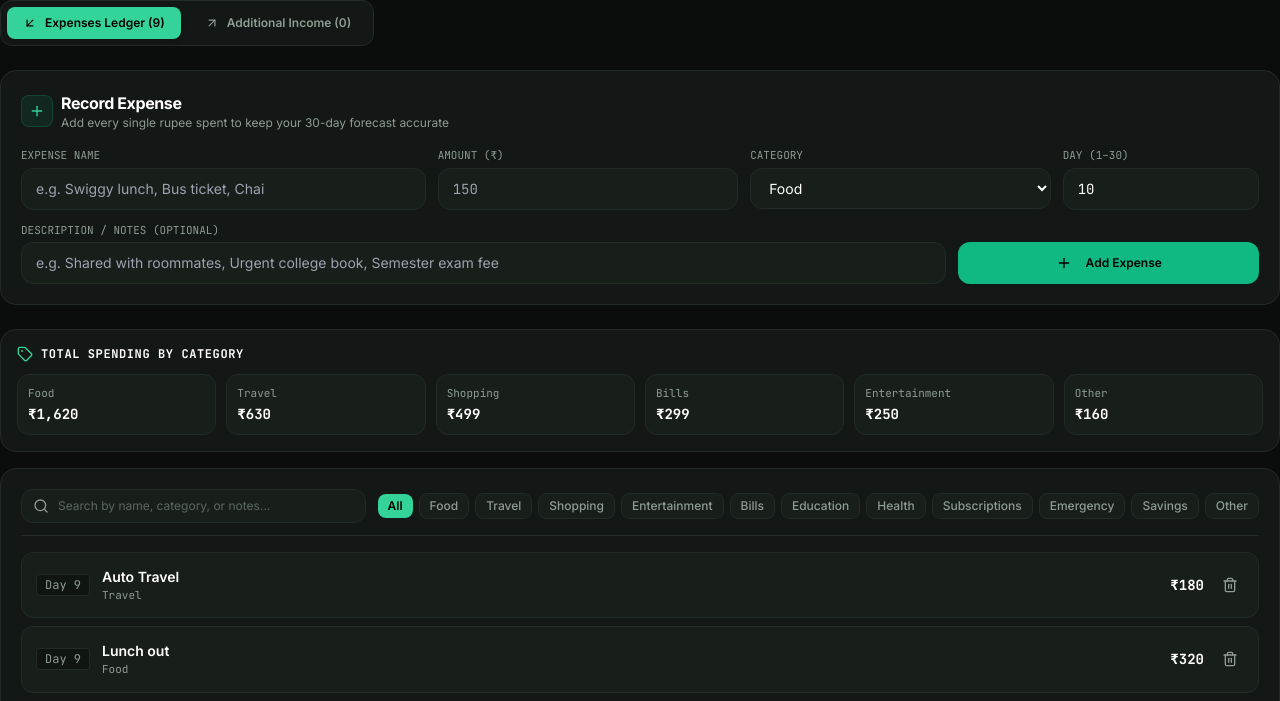
Test: ExpenseTracker Component › rejects submission with negative amount
Type "Coffee" into the field labelled "Expense Name".
click(223, 188); type("Coffee")  # box [21,168,426,210]
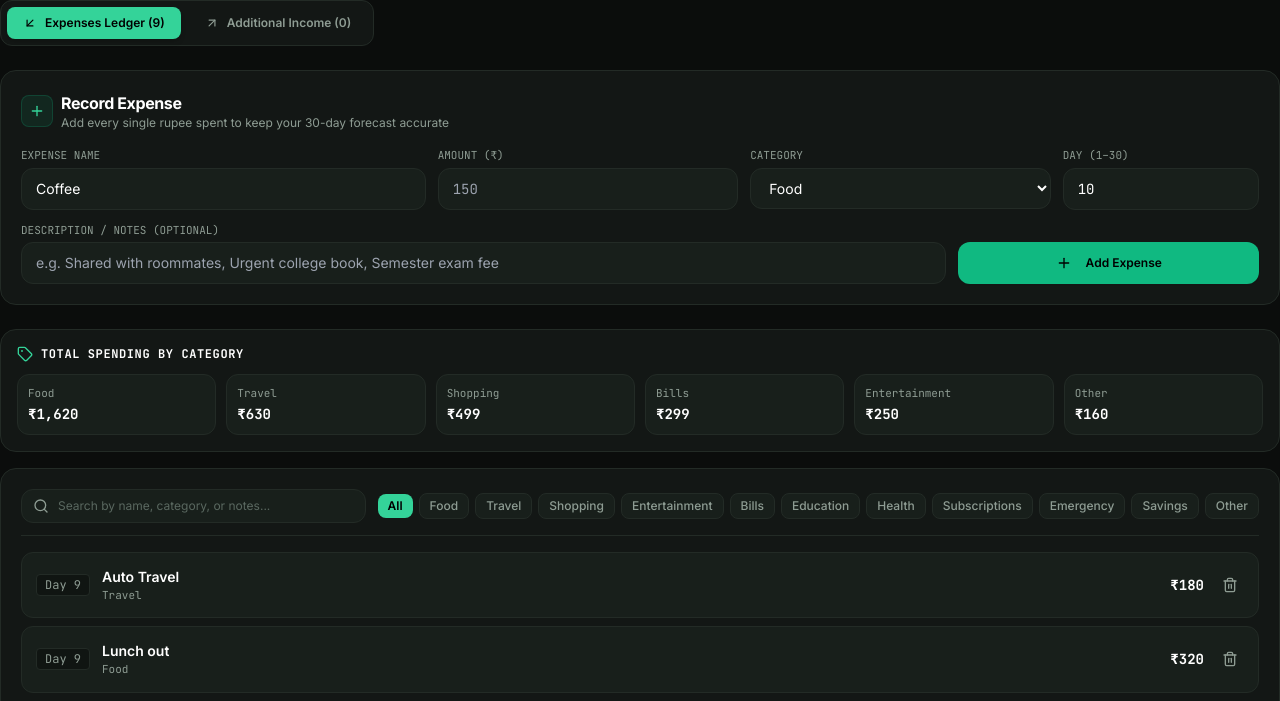
Type "-50" into the number field labelled "Amount (₹)".
click(588, 188); type("-50")  # box [438,168,738,210]
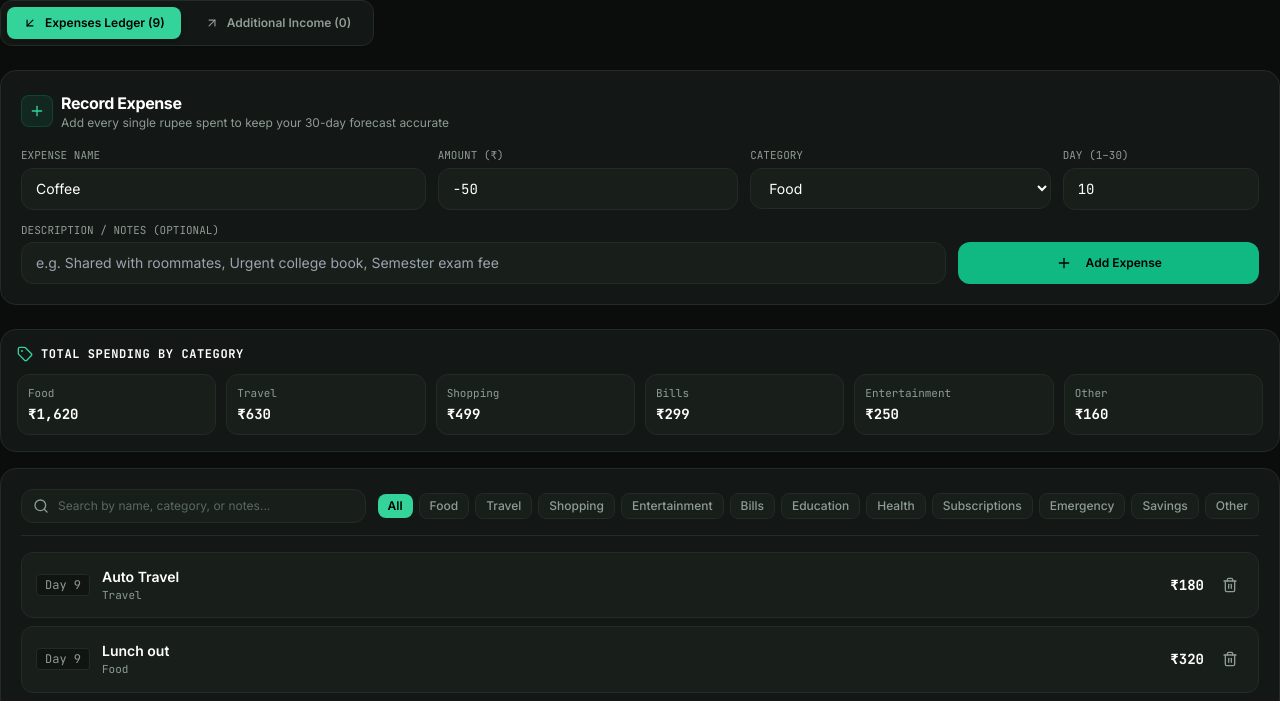
Submit the form labelled "Expense Name", box [21,147,1259,284]
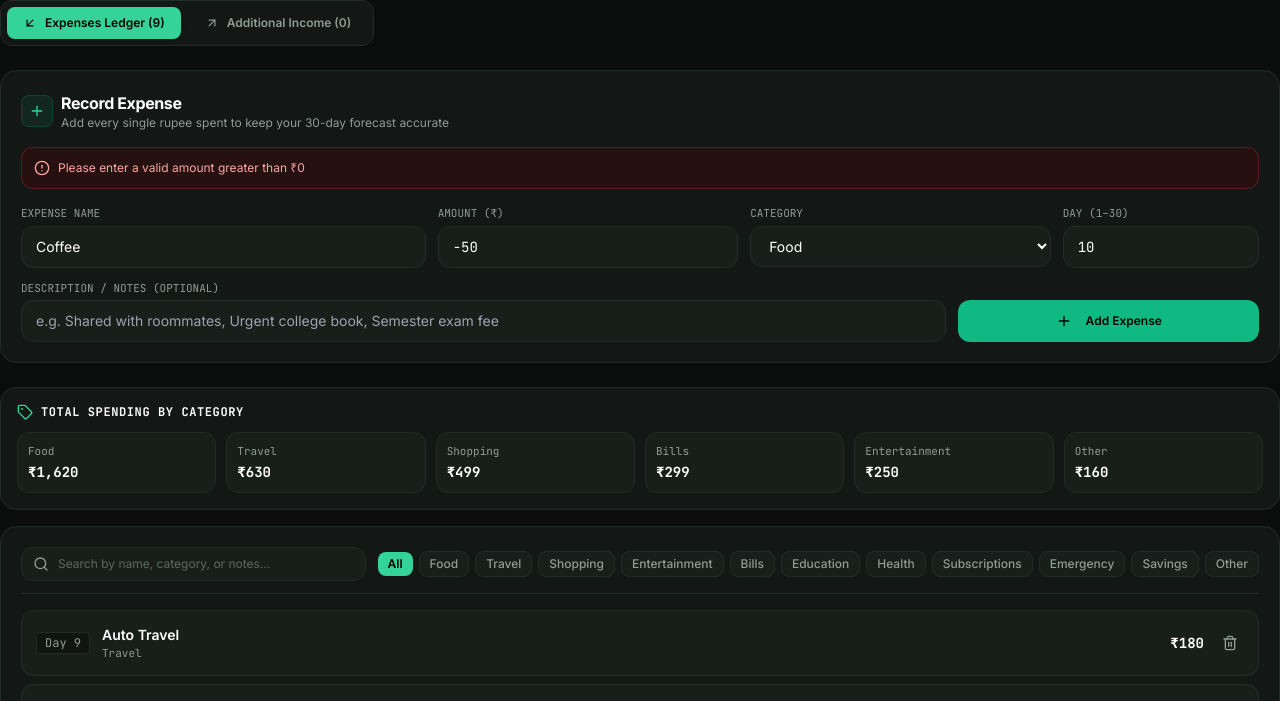
Check: the text "Please enter a valid amount greater than ₹0" is shown, box [58,160,305,176]
